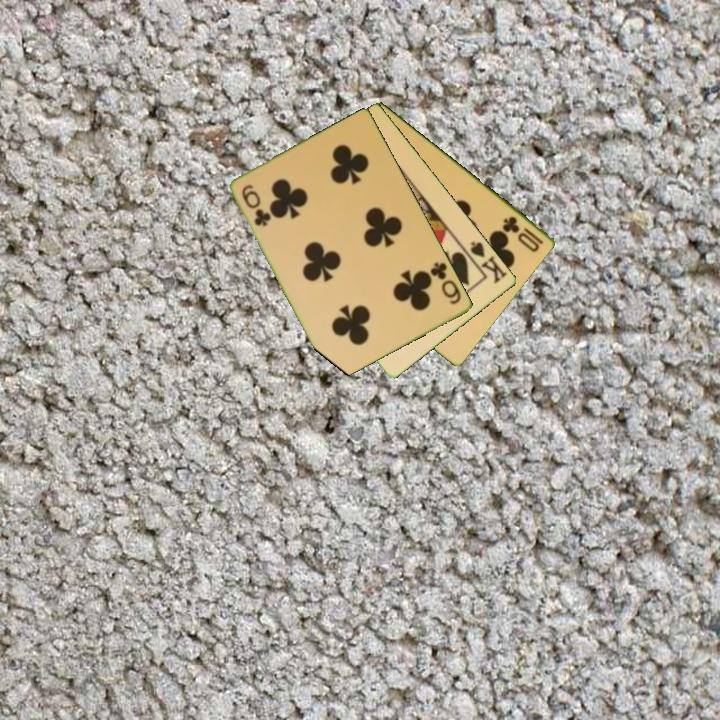10c: (499, 212, 547, 255)
6c: (427, 258, 464, 307), (238, 181, 274, 230)
Ks: (467, 238, 510, 286)
